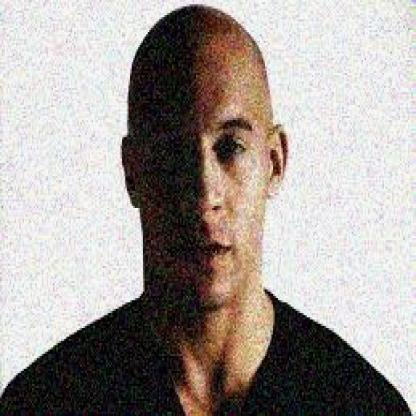without_mask: (129, 49, 280, 264)
